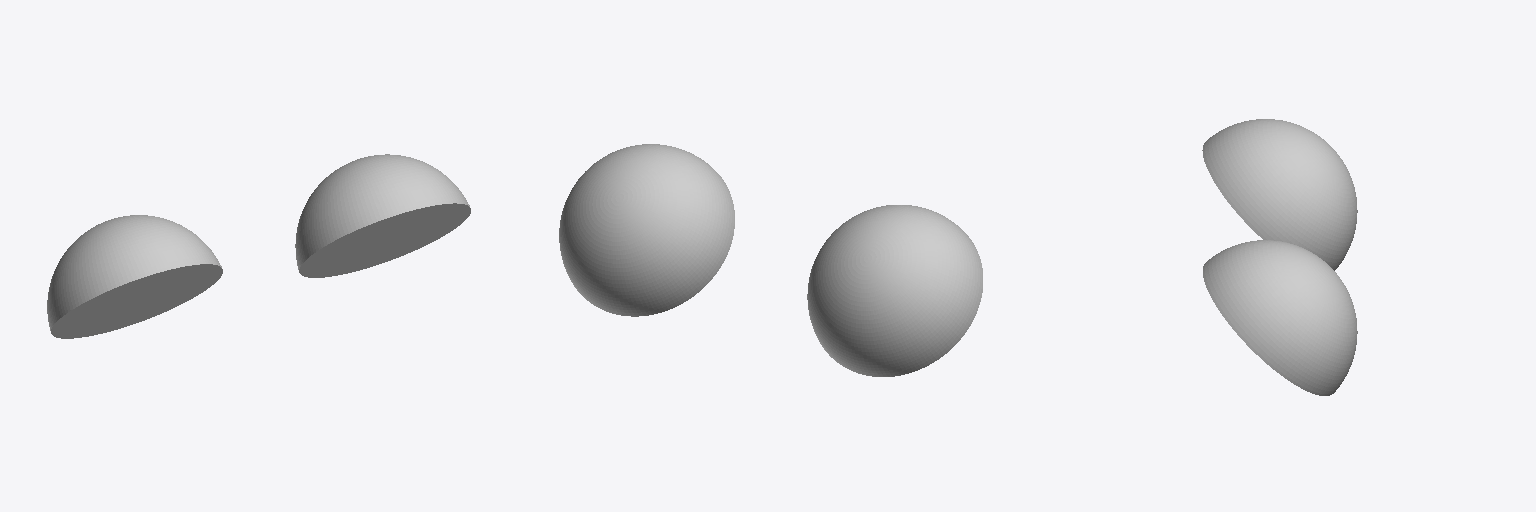
Rendered from Upper_eyelid.obj.
3 renders of one model, left to right at view 1: azimuth 30°, elevation 25°; view 2: azimuth 150°, elevation 25°; view 3: azimuth 270°, elevation 25°, orthographic.
Visible parts, largest first — view 1: Group11178, Group25758, Group8460; view 2: Group25758, Group8460; view 3: Group8460, Group25758.
Boxes of the visible parts, x1=… form: Group11178: x1=51, y1=203, x2=470, y2=338; Group25758: x1=47, y1=215, x2=221, y2=330; Group8460: x1=295, y1=154, x2=469, y2=269; Group25758: x1=807, y1=205, x2=982, y2=376; Group8460: x1=559, y1=144, x2=734, y2=316; Group8460: x1=1203, y1=240, x2=1357, y2=395; Group25758: x1=1202, y1=119, x2=1357, y2=270.
Size of the model in its own units: 0.1082 by 0.0345 by 0.0357.